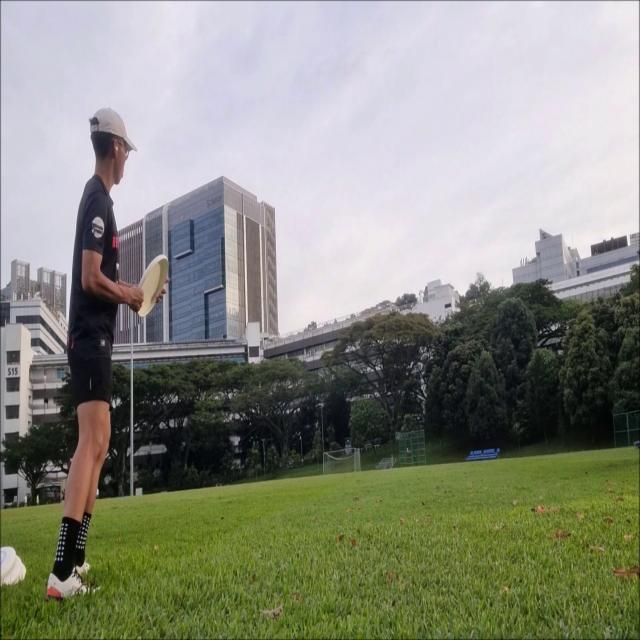disc: (133, 254, 169, 318)
